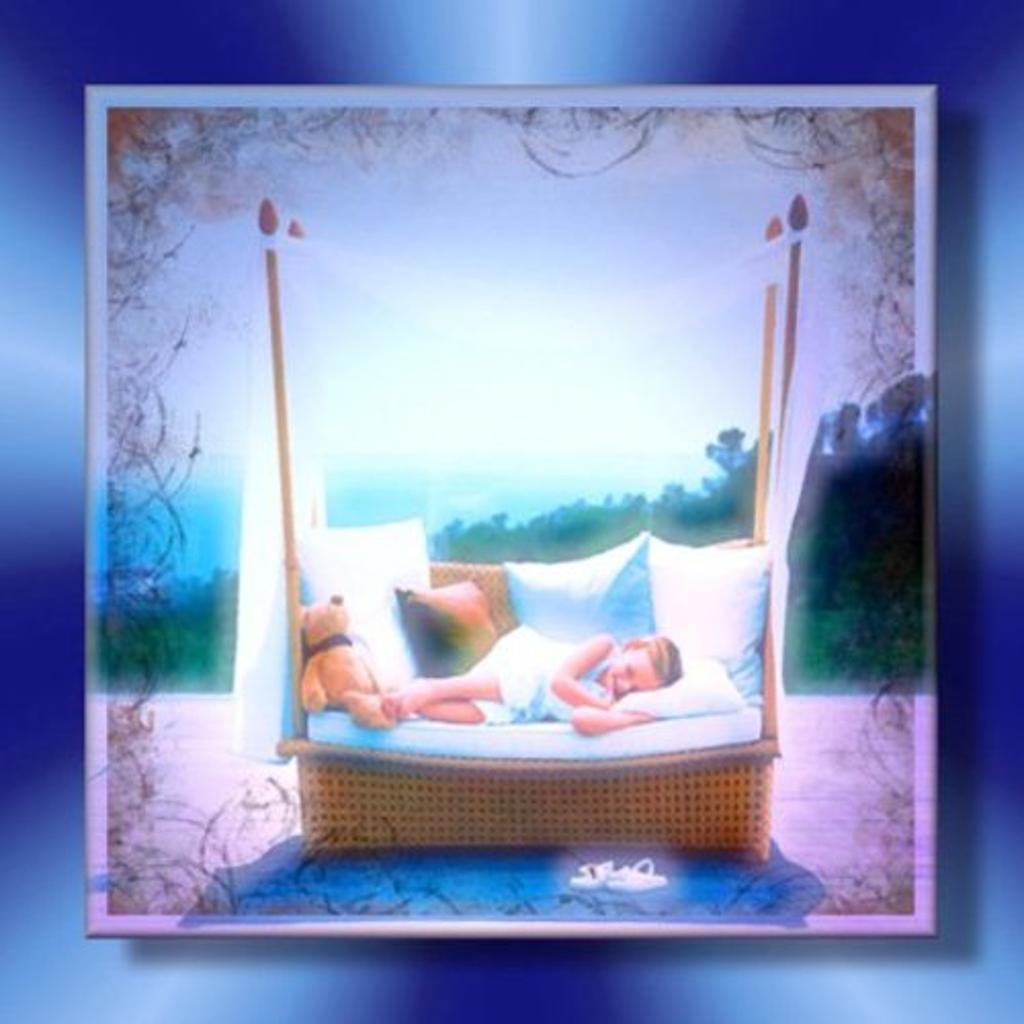face: (606, 649, 652, 695)
